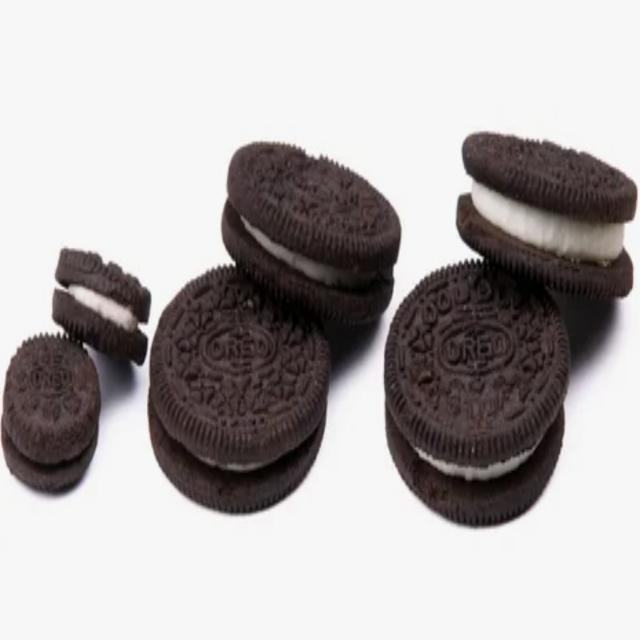supermarket-product: (160, 208, 343, 511)
